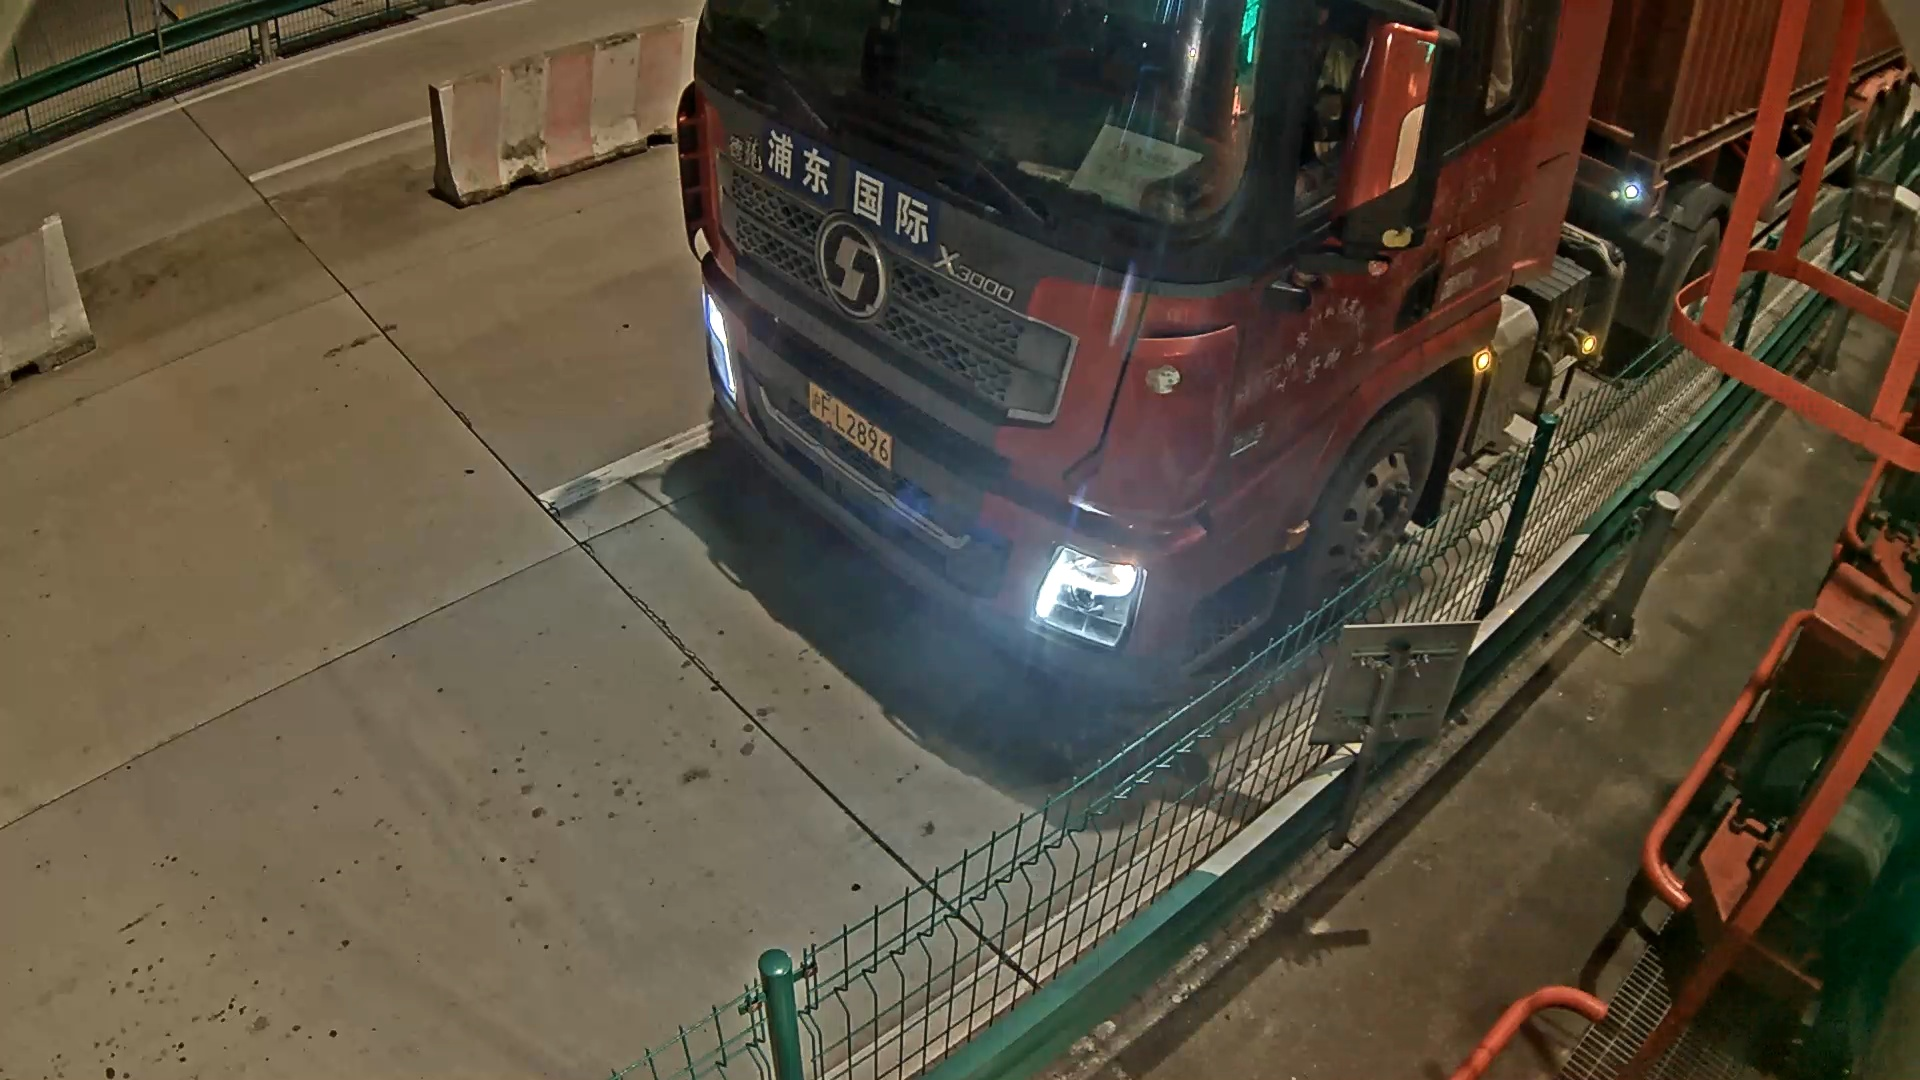head: (674, 19, 1443, 744)
plate: (804, 384, 910, 473)
